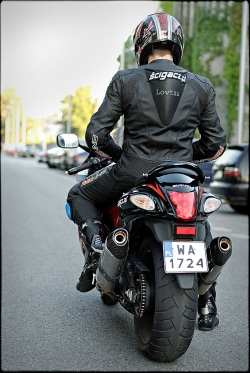tablica: (162, 240, 208, 272)
